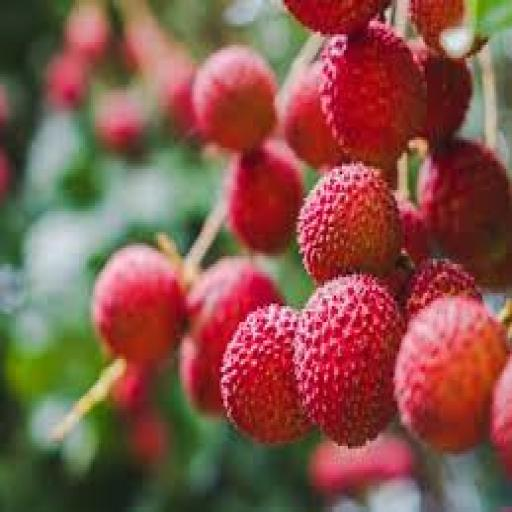lychee: (295, 275, 405, 446), (396, 296, 508, 451), (321, 22, 426, 168), (188, 256, 282, 414), (222, 304, 310, 443), (299, 164, 401, 282), (420, 140, 511, 269), (93, 246, 185, 364), (192, 45, 276, 150), (228, 143, 304, 253), (283, 61, 343, 168), (309, 436, 415, 496), (414, 48, 472, 145), (406, 259, 482, 316), (285, 0, 389, 34), (180, 338, 223, 416), (95, 90, 146, 153), (410, 0, 468, 55), (66, 3, 110, 63), (129, 410, 170, 469), (491, 359, 511, 477), (46, 53, 88, 108), (111, 365, 152, 416), (398, 198, 430, 263), (0, 151, 11, 203)
